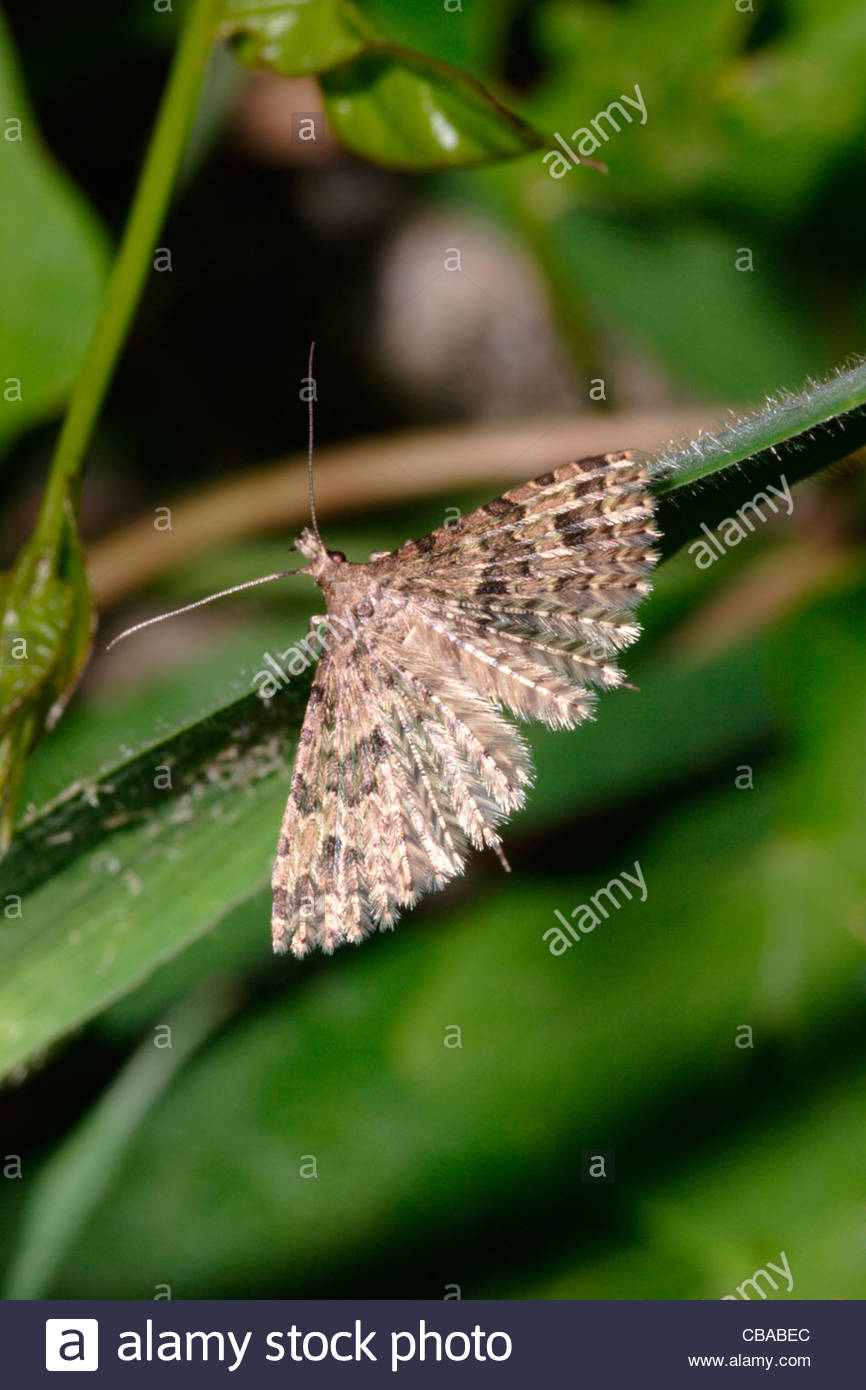Alucitidae: (101, 341, 658, 961)
moth: (99, 339, 656, 959)
